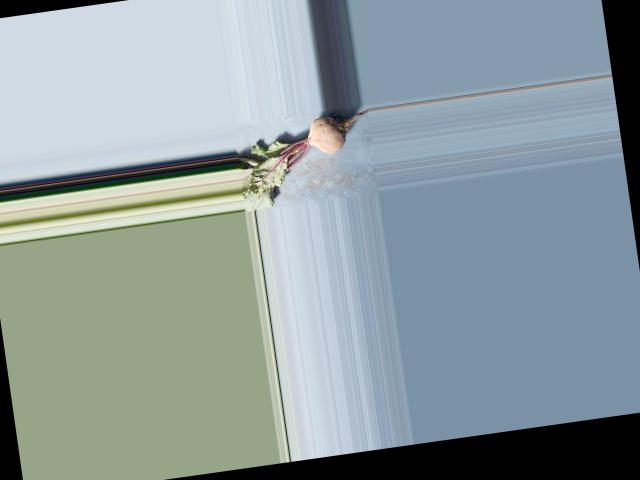beet: (232, 109, 379, 212)
